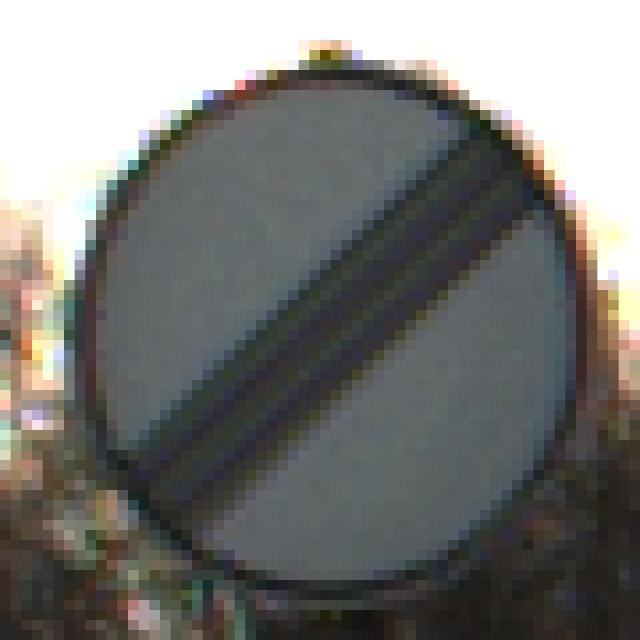restriction ends: (71, 59, 610, 604)
